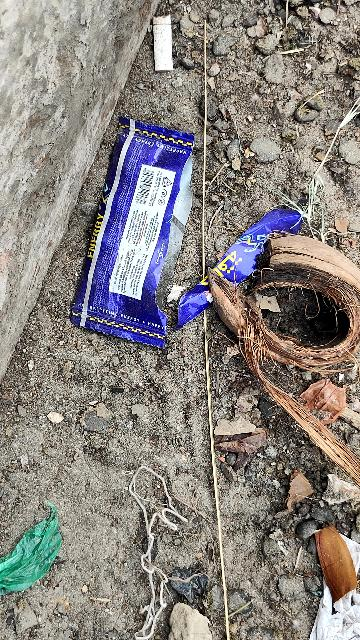packet: (55, 87, 216, 360)
